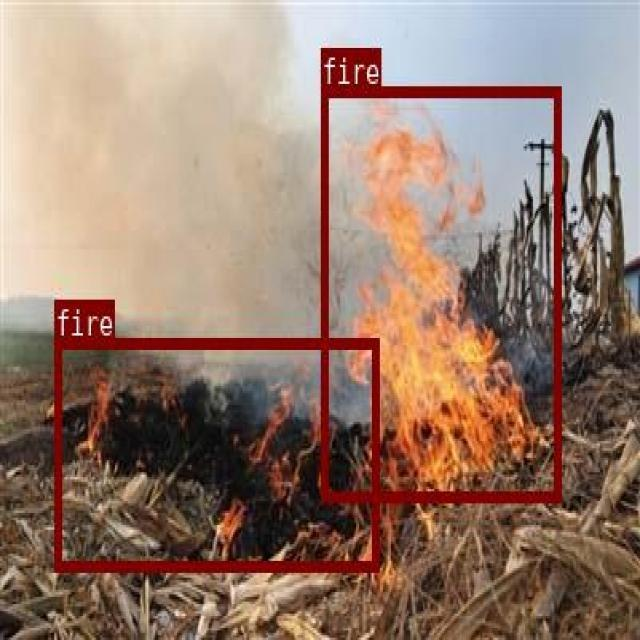fire: (320, 87, 560, 501), (53, 337, 378, 571)
